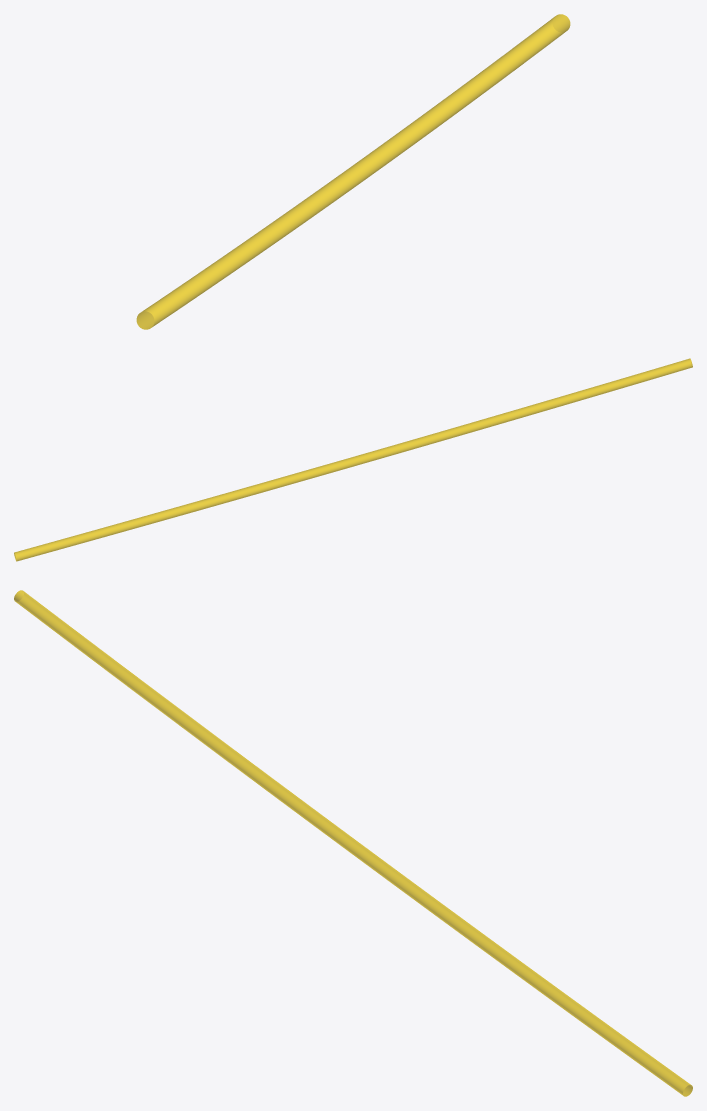
The model's file is Event_419990632_track_41.fbx.
3 views of the same model, one above another, from view 1: azimuth 30°, elevation 25°; view 2: azimuth 150°, elevation 25°; view 3: azimuth 270°, elevation 25° (orthographic). The views are drawn at different scales.
Visible parts, largest first — view 1: Model; view 2: Model; view 3: Model.
Boxes of the visible parts, x1,y1,x2,y2 form: Model: (136,14,570,329); Model: (14,358,692,561); Model: (14,590,692,1096).
Bounding box in the file's own units: 2.19 × 0.6498 × 2.01.
